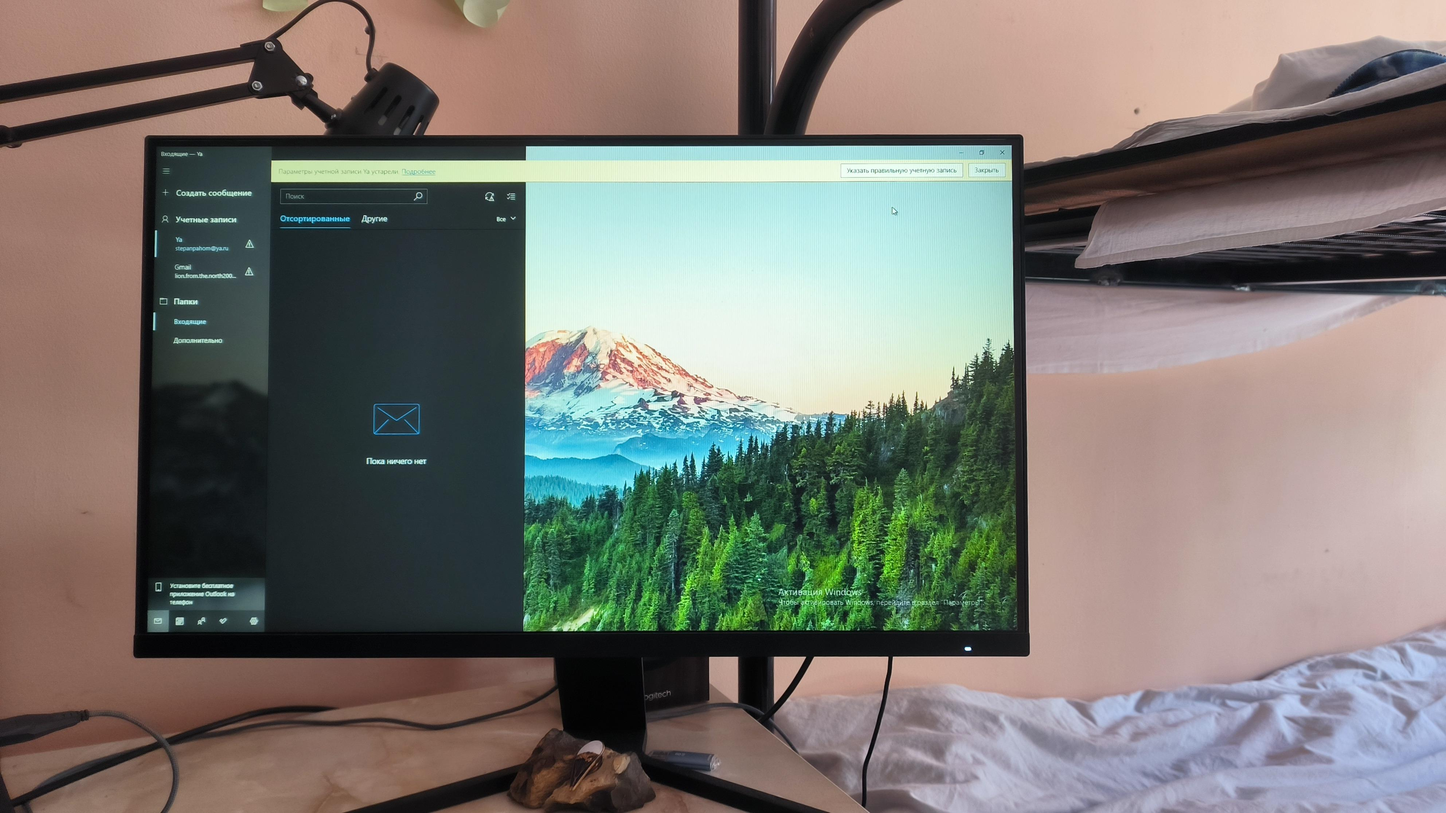monitor: (128, 126, 1035, 663)
